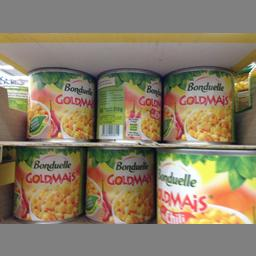corn: (154, 148, 254, 222), (160, 65, 235, 142), (10, 146, 82, 220), (81, 148, 153, 222), (26, 66, 94, 140), (94, 68, 161, 142)
